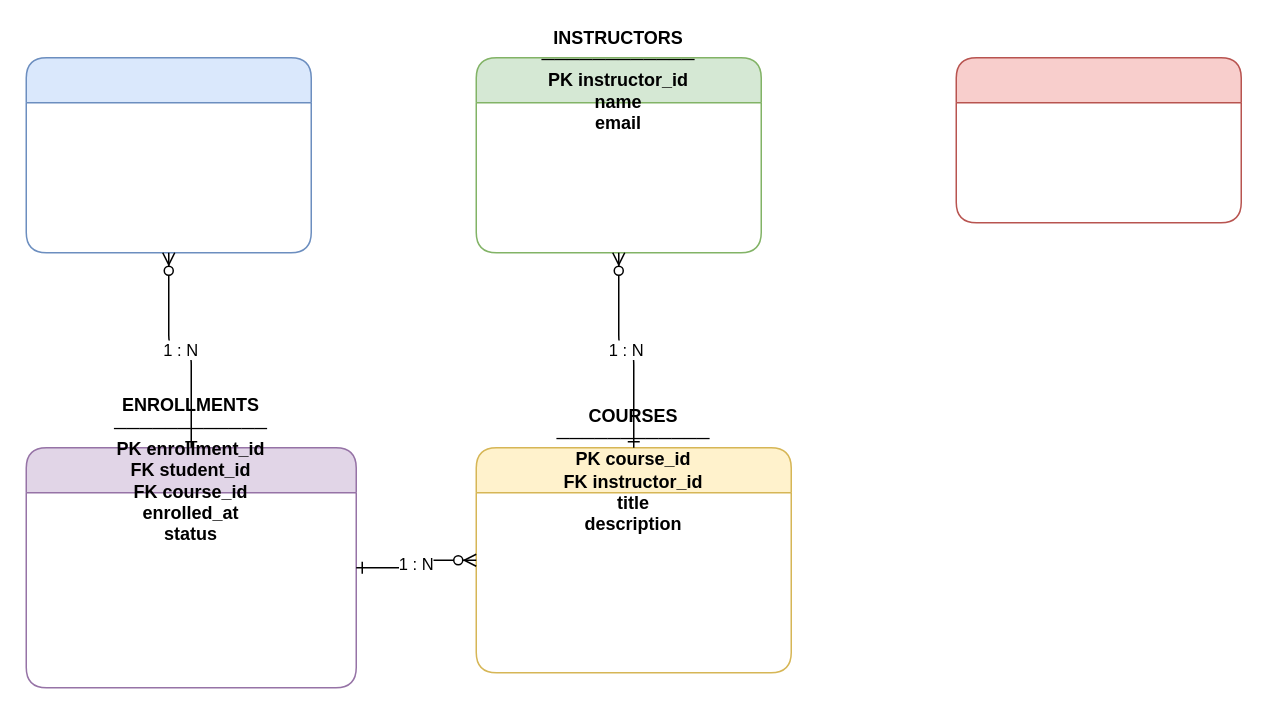
Image size: 1268x714. Some labels were removed from this diagram. Here are the shapes that lost their labels. From the top down, the centre of each, then its label:
At [168,154]: "STUDENTS ──────────── PK student_id name email".
At [1098,139]: "ADMINS ──────────── PK admin_id name".
